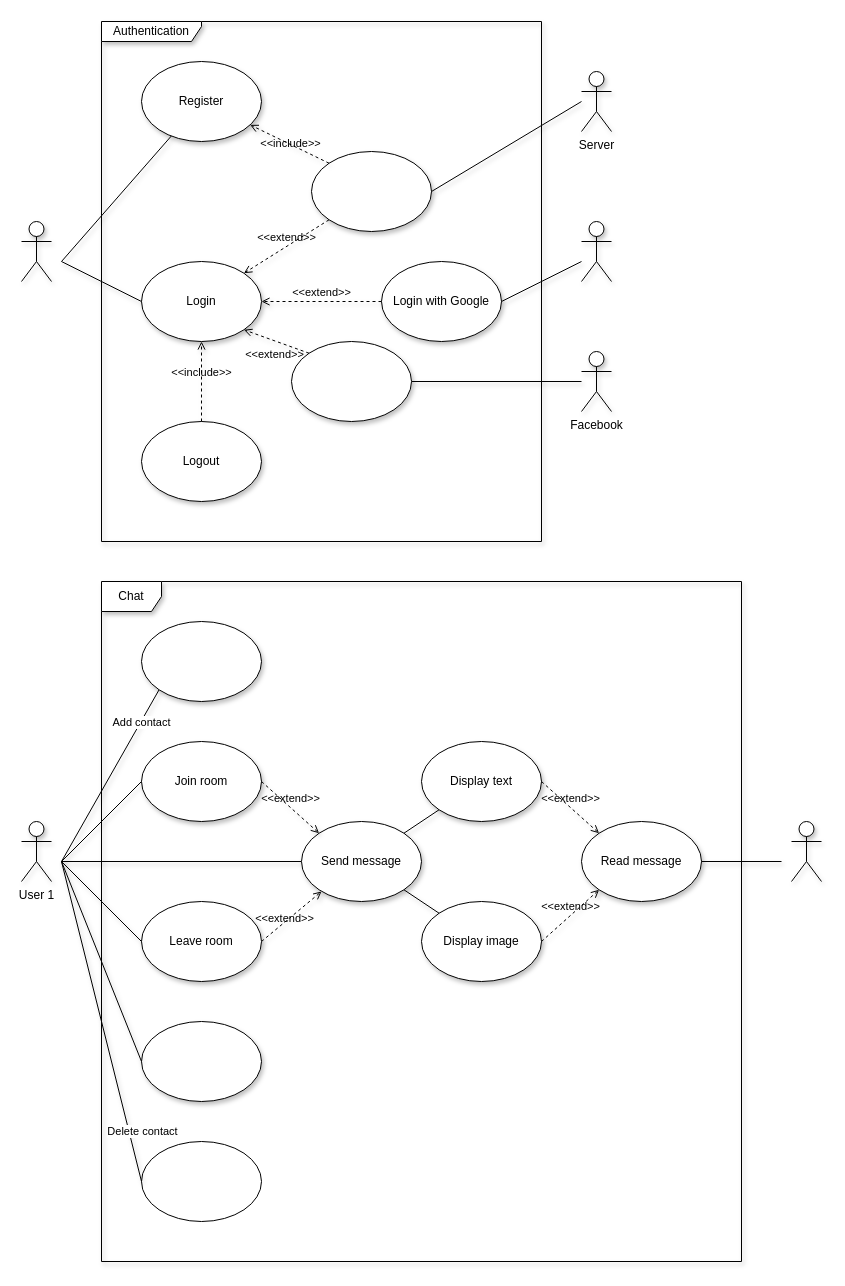
Some shapes in this 845 by 1286 pixel diagram are drawn without their labels. The centre of each missing label's shape, as x and y in pixels:
"Create room" goes at pixel 202 662.
"Delete room" goes at pixel 201 1181.
"Get statistical" goes at pixel 202 1062.
"Google" goes at pixel 597 252.
"Login default" goes at pixel 372 192.
"Login with Facebook" goes at pixel 352 382.
"User" goes at pixel 37 252.
"User 2" goes at pixel 807 852.
